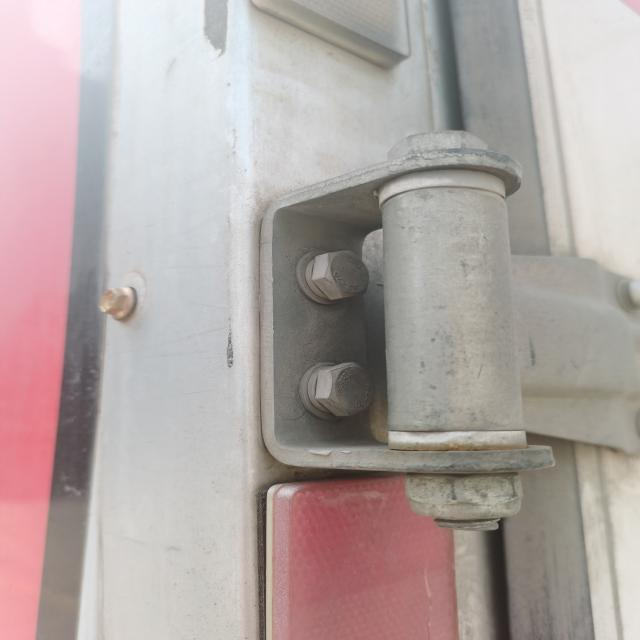bolt head: (314, 359, 379, 423), (307, 248, 373, 304)
bolt side: (396, 468, 528, 533)
